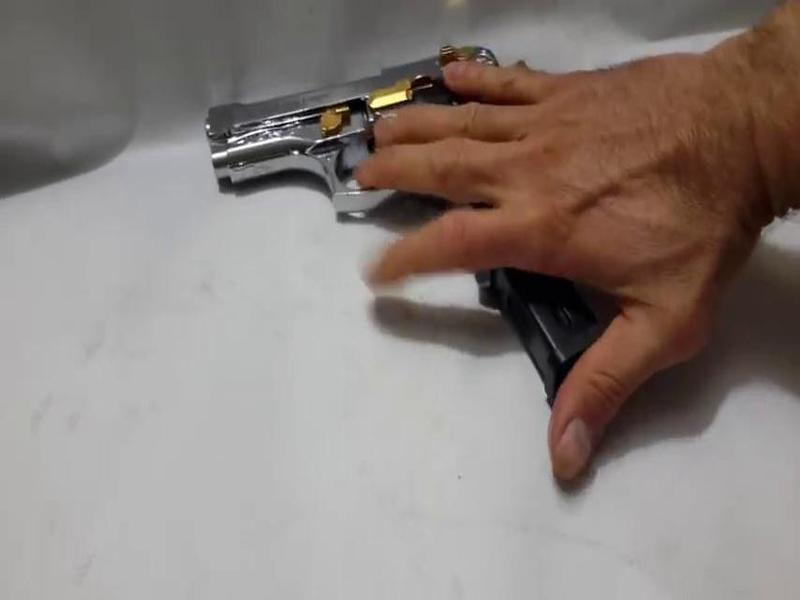Pistola: (179, 40, 613, 285)
